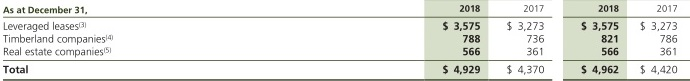column: (3, 1, 114, 81), (506, 1, 545, 81), (443, 1, 481, 81), (581, 1, 619, 81), (641, 1, 678, 81)
row: (3, 21, 690, 31), (1, 34, 690, 43), (1, 47, 690, 56), (1, 65, 690, 74), (1, 5, 690, 13)
